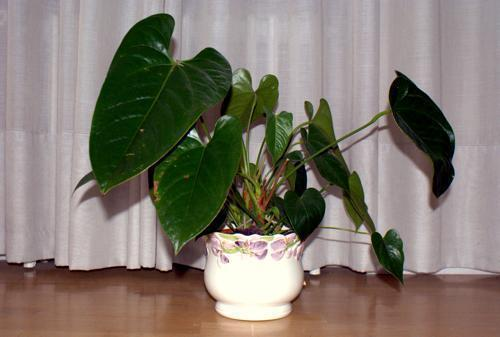Matera: (105, 7, 473, 328)
